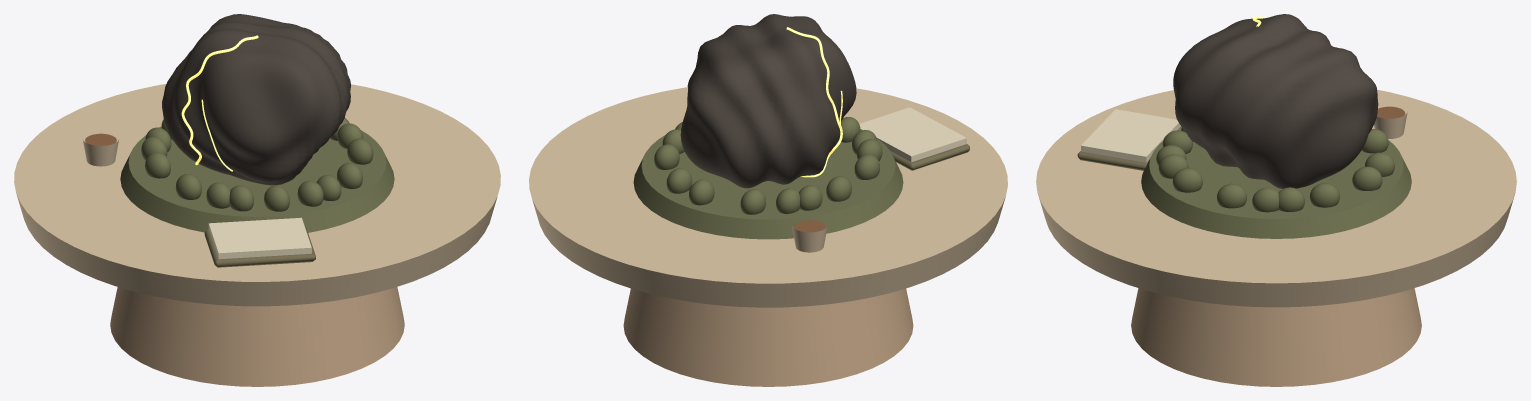
3 renders of one model, left to right at view 1: azimuth 30°, elevation 25°; view 2: azimuth 150°, elevation 25°; view 3: azimuth 270°, elevation 25°, orthographic.
Visible parts, largest first — view 1: Mesh_CreationTable, Mesh_KilnSeedstone, Mesh_TableFoot, Mesh_CoreBed, Mesh_BiblePages, Mesh_BibleCover, Mesh_TeaCup, Mesh_KilnAmberSeam, Mesh_CoreGarden_10, Mesh_CoreGarden_0, Mesh_CoreGarden_6, Mesh_CoreGarden_11 (+7 smaller); view 2: Mesh_CreationTable, Mesh_KilnSeedstone, Mesh_TableFoot, Mesh_CoreBed, Mesh_BiblePages, Mesh_BibleCover, Mesh_TeaCup, Mesh_KilnAmberSeam, Mesh_CoreGarden_4, Mesh_CoreGarden_12, Mesh_CoreGarden_9, Mesh_CoreGarden_6 (+4 smaller); view 3: Mesh_CreationTable, Mesh_KilnSeedstone, Mesh_TableFoot, Mesh_CoreBed, Mesh_BiblePages, Mesh_BibleCover, Mesh_CoreGarden_10, Mesh_CoreGarden_5, Mesh_CoreGarden_7, Mesh_CoreGarden_12, Mesh_CoreGarden_2, Mesh_CoreGarden_15 (+5 smaller).
Part boxes in pixels (x1=…): Mesh_CreationTable: x1=14, y1=84, x2=500, y2=306; Mesh_KilnSeedstone: x1=162, y1=14, x2=350, y2=185; Mesh_TableFoot: x1=110, y1=287, x2=404, y2=386; Mesh_CoreBed: x1=120, y1=126, x2=394, y2=232; Mesh_BiblePages: x1=208, y1=217, x2=311, y2=259; Mesh_BibleCover: x1=204, y1=225, x2=315, y2=267; Mesh_TeaCup: x1=82, y1=139, x2=118, y2=166; Mesh_KilnAmberSeam: x1=181, y1=35, x2=258, y2=165; Mesh_CoreGarden_10: x1=347, y1=138, x2=373, y2=164; Mesh_CoreGarden_0: x1=297, y1=180, x2=323, y2=206; Mesh_CoreGarden_6: x1=145, y1=152, x2=170, y2=178; Mesh_CoreGarden_11: x1=175, y1=174, x2=201, y2=199; Mesh_CreationTable: x1=529, y1=87, x2=1007, y2=307; Mesh_KilnSeedstone: x1=680, y1=14, x2=856, y2=188; Mesh_TableFoot: x1=623, y1=288, x2=913, y2=386; Mesh_CoreBed: x1=633, y1=129, x2=903, y2=239; Mesh_BiblePages: x1=859, y1=107, x2=966, y2=162; Mesh_BibleCover: x1=890, y1=144, x2=969, y2=170; Mesh_TeaCup: x1=792, y1=226, x2=827, y2=252; Mesh_KilnAmberSeam: x1=786, y1=27, x2=842, y2=177; Mesh_CoreGarden_4: x1=689, y1=179, x2=714, y2=205; Mesh_CoreGarden_12: x1=666, y1=168, x2=692, y2=193; Mesh_CoreGarden_9: x1=740, y1=189, x2=765, y2=214; Mesh_CoreGarden_6: x1=826, y1=176, x2=851, y2=201; Mesh_CreationTable: x1=1036, y1=89, x2=1516, y2=307; Mesh_KilnSeedstone: x1=1173, y1=14, x2=1378, y2=188; Mesh_TableFoot: x1=1131, y1=288, x2=1421, y2=386; Mesh_CoreBed: x1=1141, y1=130, x2=1411, y2=238; Mesh_BiblePages: x1=1081, y1=109, x2=1180, y2=162; Mesh_BibleCover: x1=1077, y1=126, x2=1181, y2=170; Mesh_CoreGarden_10: x1=1216, y1=183, x2=1246, y2=208; Mesh_CoreGarden_5: x1=1172, y1=168, x2=1202, y2=192; Mesh_CoreGarden_7: x1=1309, y1=183, x2=1339, y2=207; Mesh_CoreGarden_12: x1=1352, y1=166, x2=1382, y2=190; Mesh_CoreGarden_2: x1=1252, y1=187, x2=1278, y2=212; Mesh_CoreGarden_15: x1=1278, y1=187, x2=1304, y2=211.
Bounding box in the file's own units: 2.38 × 1.61 × 2.38.
